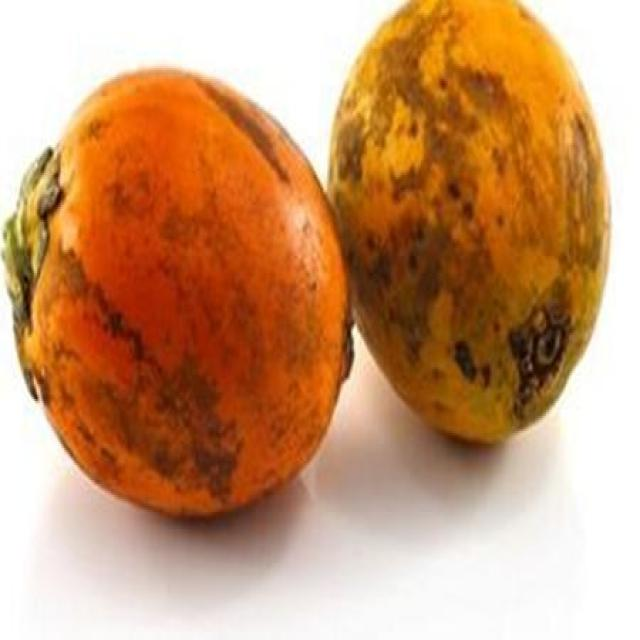good: (0, 68, 354, 523), (323, 0, 613, 448)
